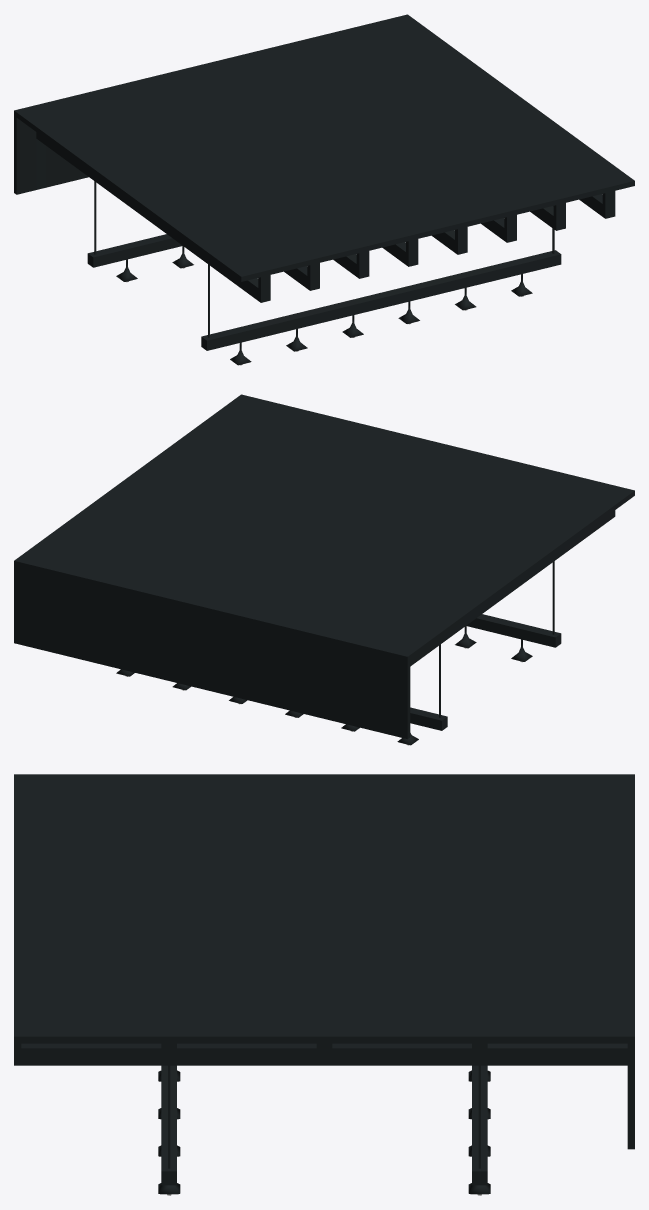
The model's file is Roof_Edge_Lights.glb.
The picture shows the model from 3 angles, top to bottom: view 1: azimuth 30°, elevation 25°; view 2: azimuth 150°, elevation 25°; view 3: azimuth 270°, elevation 25°; orthographic projection. The views are drawn at different scales.
Parts seen in each view (by area): view 1: Roof_Edge_Lights; view 2: Roof_Edge_Lights; view 3: Roof_Edge_Lights.
Part boxes in pixels (left/top/right/bottom): Roof_Edge_Lights: left=14, top=14, right=634, bottom=365; Roof_Edge_Lights: left=14, top=394, right=634, bottom=745; Roof_Edge_Lights: left=14, top=774, right=634, bottom=1195.
Bounding box in the file's own units: 8 × 2.79 × 8.
1 material, 1 textured.
